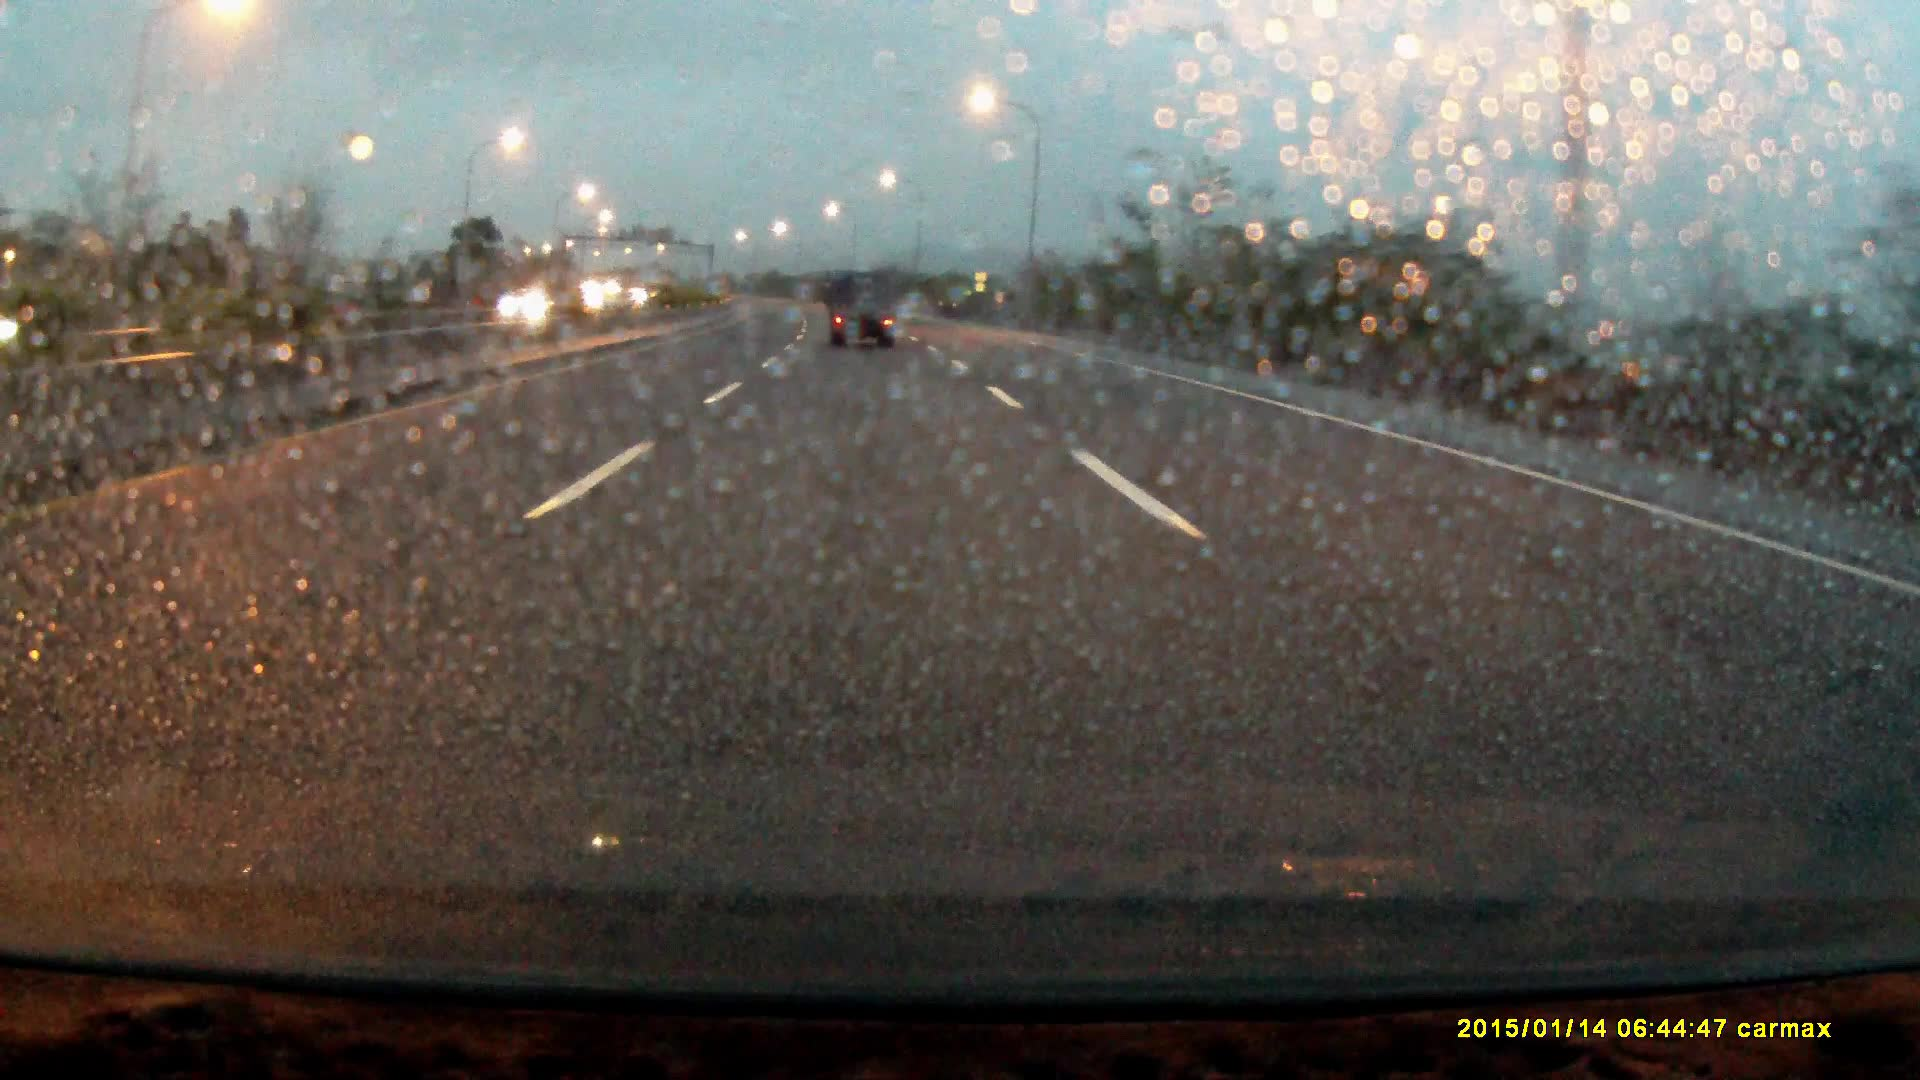vehicle: (829, 276, 897, 351), (500, 287, 570, 320)
